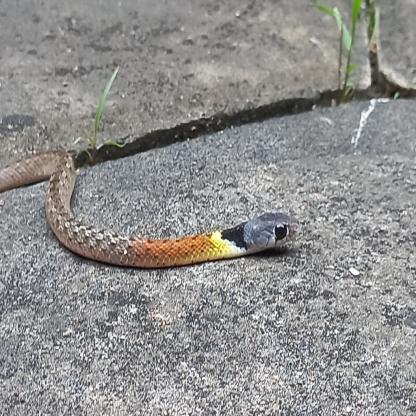Snake: (6, 147, 302, 271)
